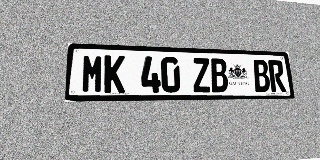0: (161, 57, 180, 93)
4: (141, 56, 161, 93)
B: (209, 58, 229, 92), (252, 59, 271, 92)
K: (104, 55, 125, 93)
M: (81, 54, 104, 93)
R: (268, 60, 286, 92)
Z: (192, 58, 211, 92)
